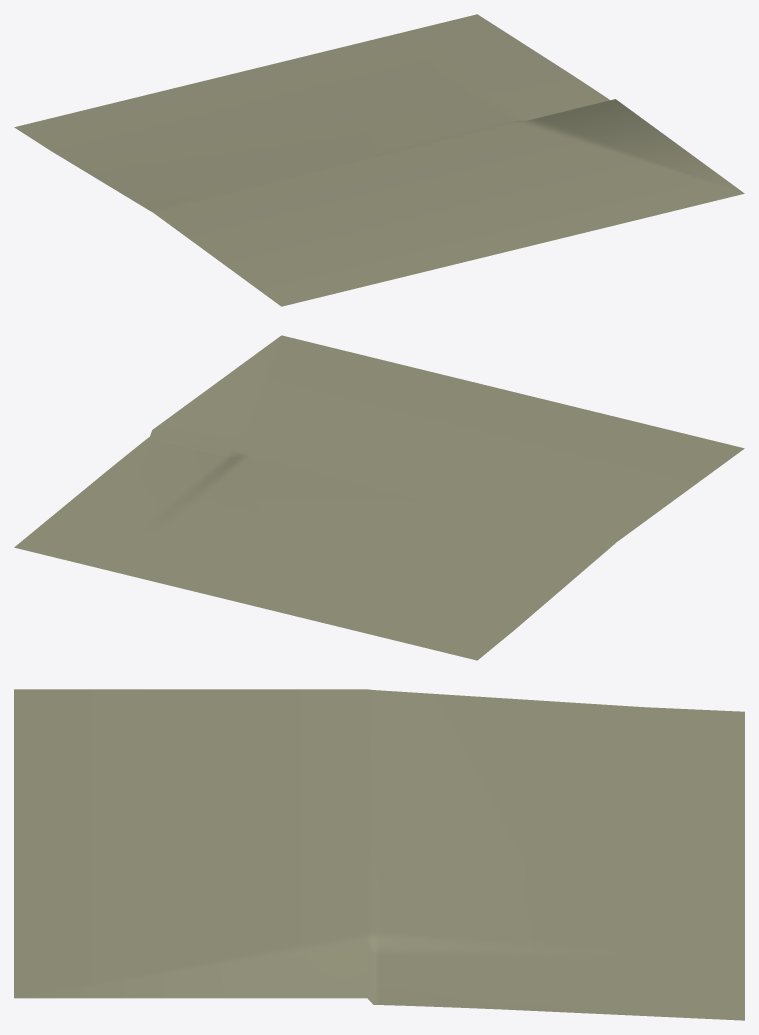
File: SM_VB_CityTerrain_9_2.fbx
The picture shows the model from 3 angles, top to bottom: view 1: azimuth 30°, elevation 25°; view 2: azimuth 150°, elevation 25°; view 3: azimuth 270°, elevation 25°; orthographic projection. The views are drawn at different scales.
Visible parts, largest first — view 1: SM_VB_CityTerrain_9_2; view 2: SM_VB_CityTerrain_9_2; view 3: SM_VB_CityTerrain_9_2.
Boxes of the visible parts, left/top/right/bottom form: SM_VB_CityTerrain_9_2: left=14, top=14, right=744, bottom=306; SM_VB_CityTerrain_9_2: left=14, top=335, right=744, bottom=660; SM_VB_CityTerrain_9_2: left=14, top=689, right=744, bottom=1020.
Size of the model in its own units: 600 by 20.29 by 600.
